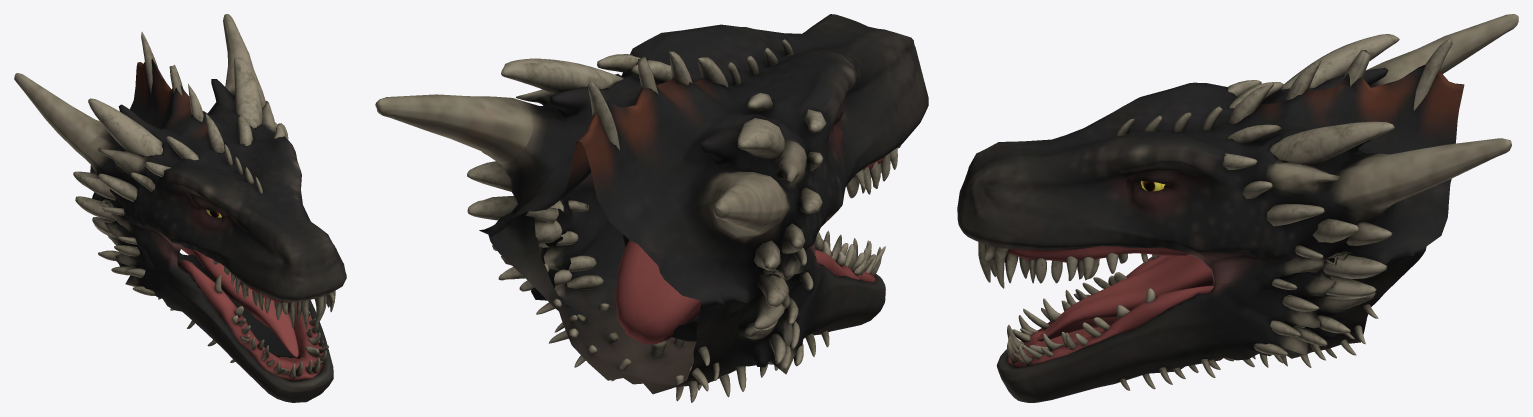
The model's file is dragon_000011.obj.
3 views of the same model, side by side, from view 1: azimuth 30°, elevation 25°; view 2: azimuth 150°, elevation 25°; view 3: azimuth 270°, elevation 25° (orthographic). The views are drawn at different scales.
Visible parts, largest first — view 1: Dragon_Untitled; view 2: Dragon_Untitled; view 3: Dragon_Untitled.
Boxes of the visible parts, box(x1,y1,x2,y2) form: Dragon_Untitled: box(14, 14, 346, 402); Dragon_Untitled: box(375, 14, 928, 402); Dragon_Untitled: box(957, 14, 1518, 402).
Bounding box in the file's own units: 2.72 × 3.14 × 4.45.
